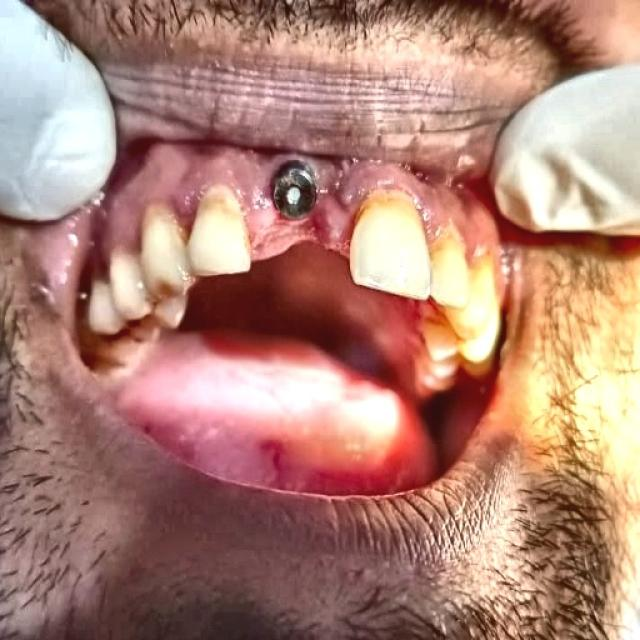processing_area: (119, 247, 447, 490)
